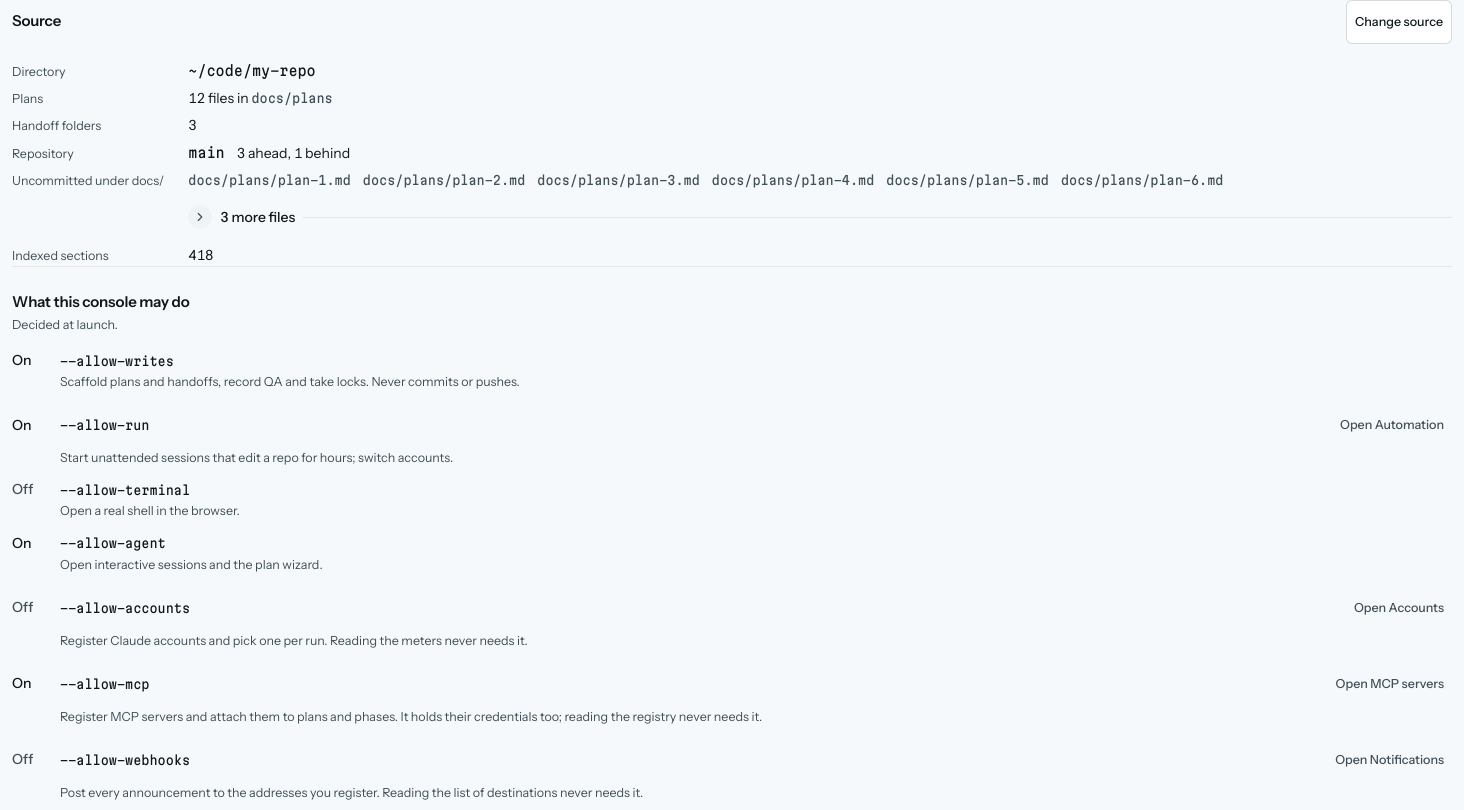
Test: Source › names the first six uncommitted files and keeps the rest one press away
Expected: the text "docs/plans/plan-7.md" is not shown
Click the button "3 more files" at point(258, 216), box 188,195 -> 1452,239
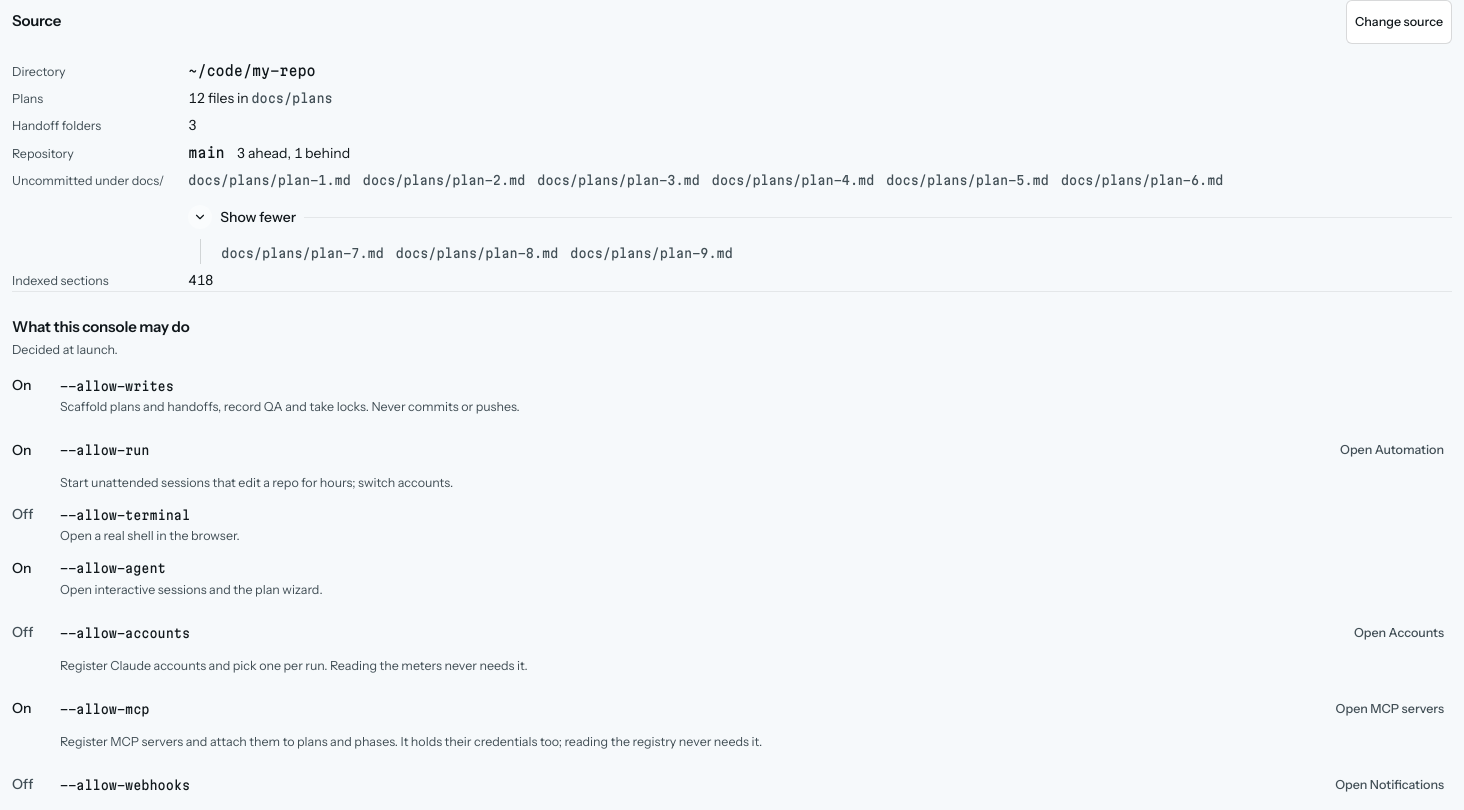
Expected: the text "docs/plans/plan-7.md" is shown, 221,245 -> 384,261
